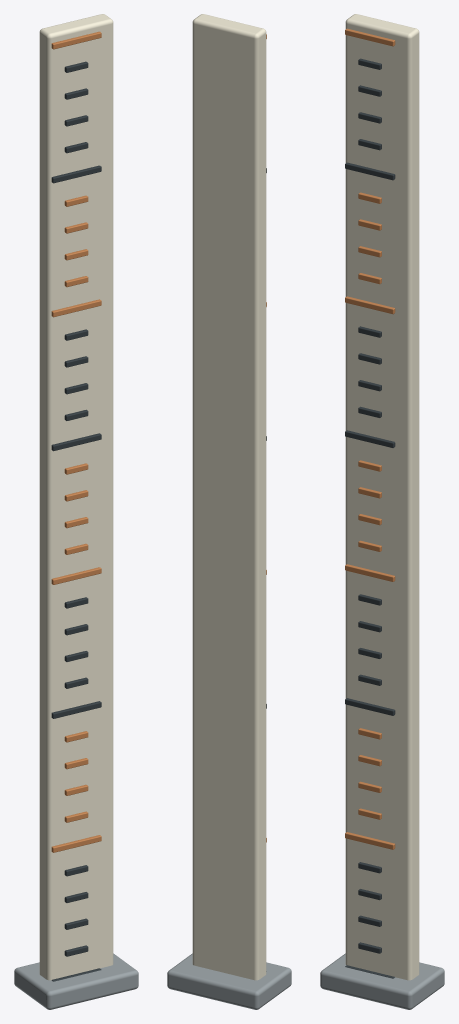
The model's file is abandoned-weather-station-and-storm-shelter-snow-stake-d69bfc8f__31020.glb.
3 views of the same model, side by side, from view 1: azimuth 30°, elevation 25°; view 2: azimuth 150°, elevation 25°; view 3: azimuth 330°, elevation 25° (orthographic).
Visible parts, largest first — view 1: snow-stake; view 2: snow-stake; view 3: snow-stake.
Part boxes in pixels (box(x1,y1,x2,y2)): snow-stake: box(14, 14, 138, 1009); snow-stake: box(167, 14, 291, 1009); snow-stake: box(320, 14, 444, 1009).
Size of the model in its own units: 0.18 by 1.8 by 0.12.
